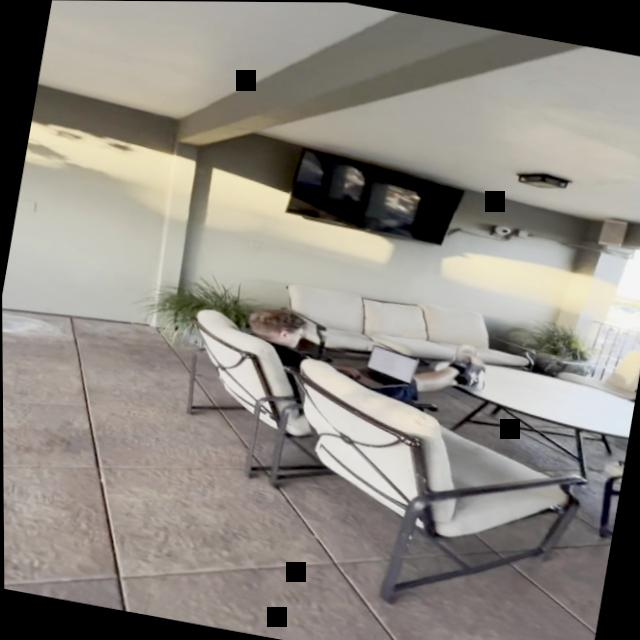NO-Mask: (280, 321, 305, 347)
